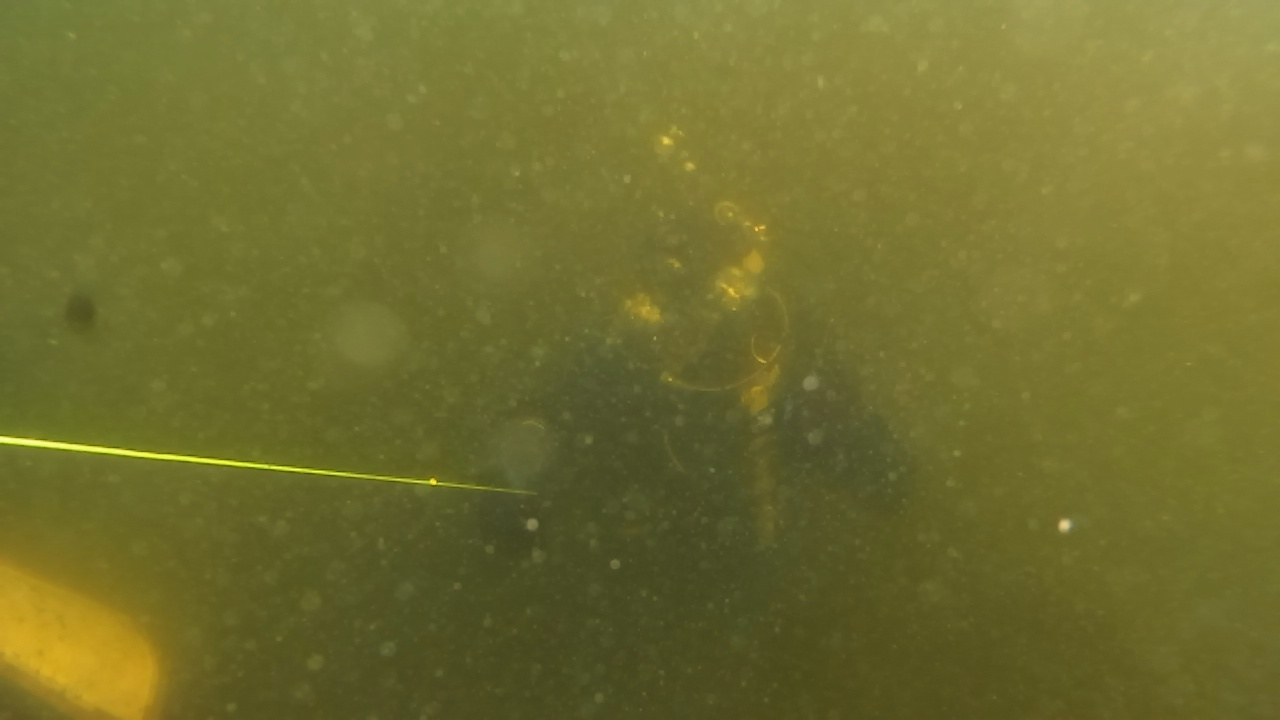Diver: (474, 180, 928, 582)
